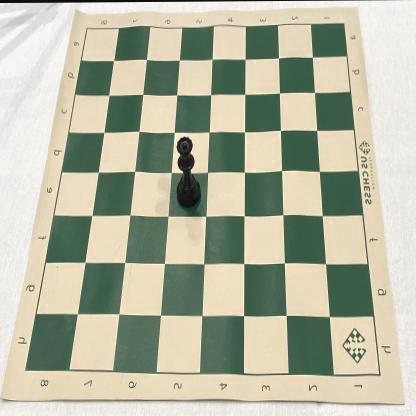black-queen: (176, 136, 202, 209)
